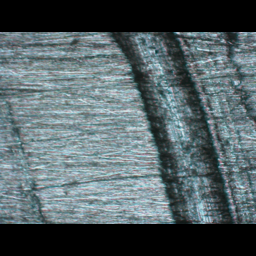d: (102, 32, 256, 223)
